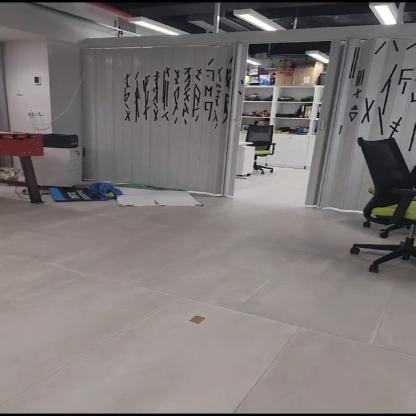open: (230, 44, 338, 202)
